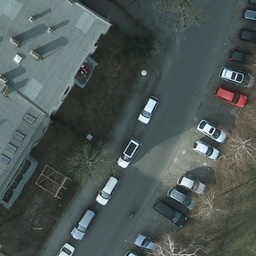car: (154, 197, 188, 227), (70, 206, 95, 239), (221, 64, 256, 86), (167, 185, 197, 210), (198, 119, 227, 143), (118, 137, 141, 167), (213, 87, 247, 107), (193, 140, 221, 162), (178, 175, 206, 197), (140, 90, 158, 123), (99, 171, 118, 202), (135, 231, 161, 253)
